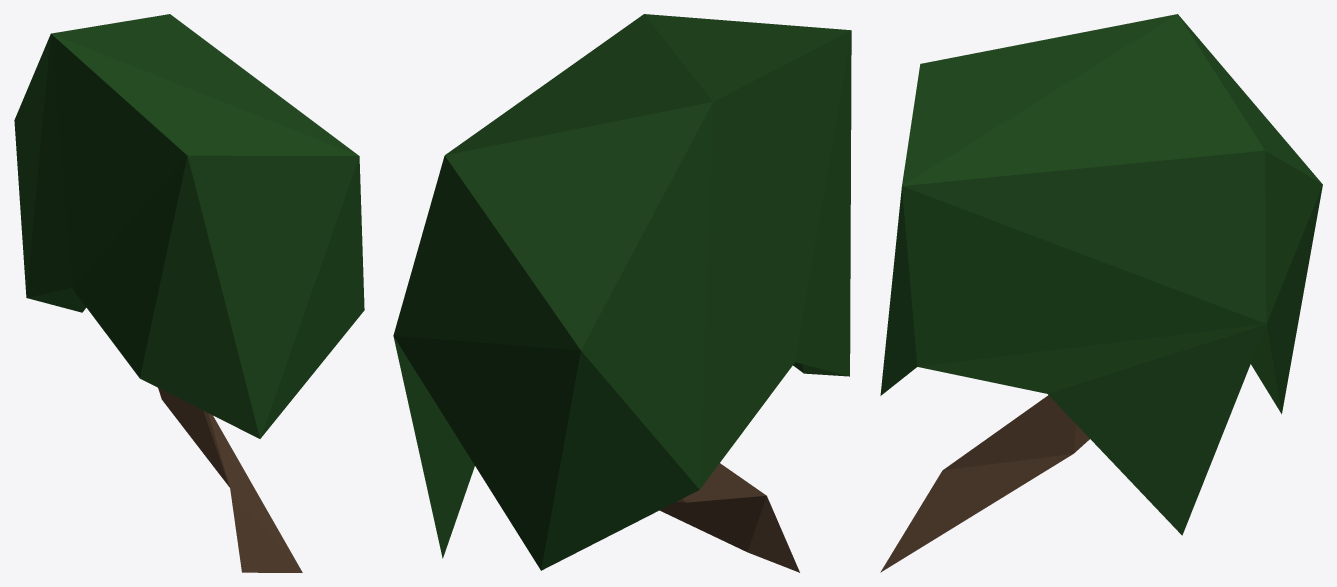
The model's file is tree_c_lod2.glb.
3 renders of one model, left to right at view 1: azimuth 30°, elevation 25°; view 2: azimuth 150°, elevation 25°; view 3: azimuth 270°, elevation 25°, orthographic. The views are drawn at different scales.
Parts seen in each view (by area): view 1: tree_c_lod2; view 2: tree_c_lod2; view 3: tree_c_lod2.
Boxes of the visible parts, x1,y1,x2,y2 form: tree_c_lod2: [14, 14, 364, 572]; tree_c_lod2: [393, 14, 851, 572]; tree_c_lod2: [880, 14, 1322, 572].
Size of the model in its own units: 1.14 by 2.3 by 1.85.
